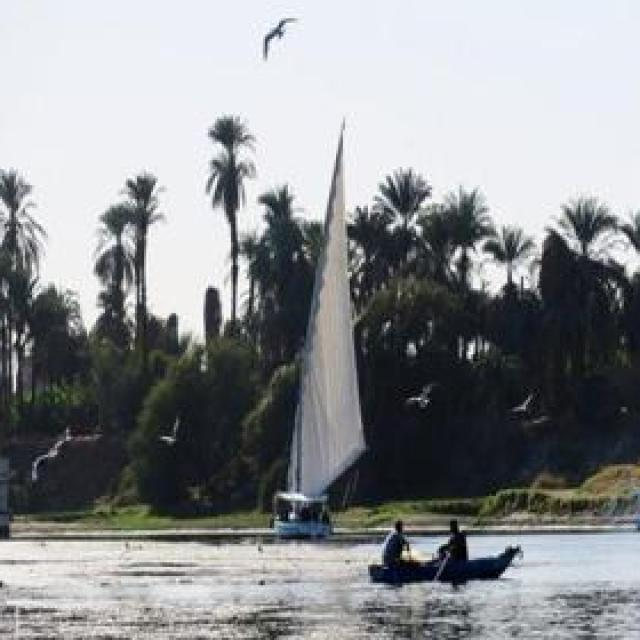sailboat: (266, 108, 368, 544)
